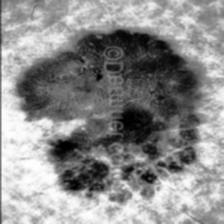Potentially Malignant Skin Tumors: (13, 29, 201, 198)
